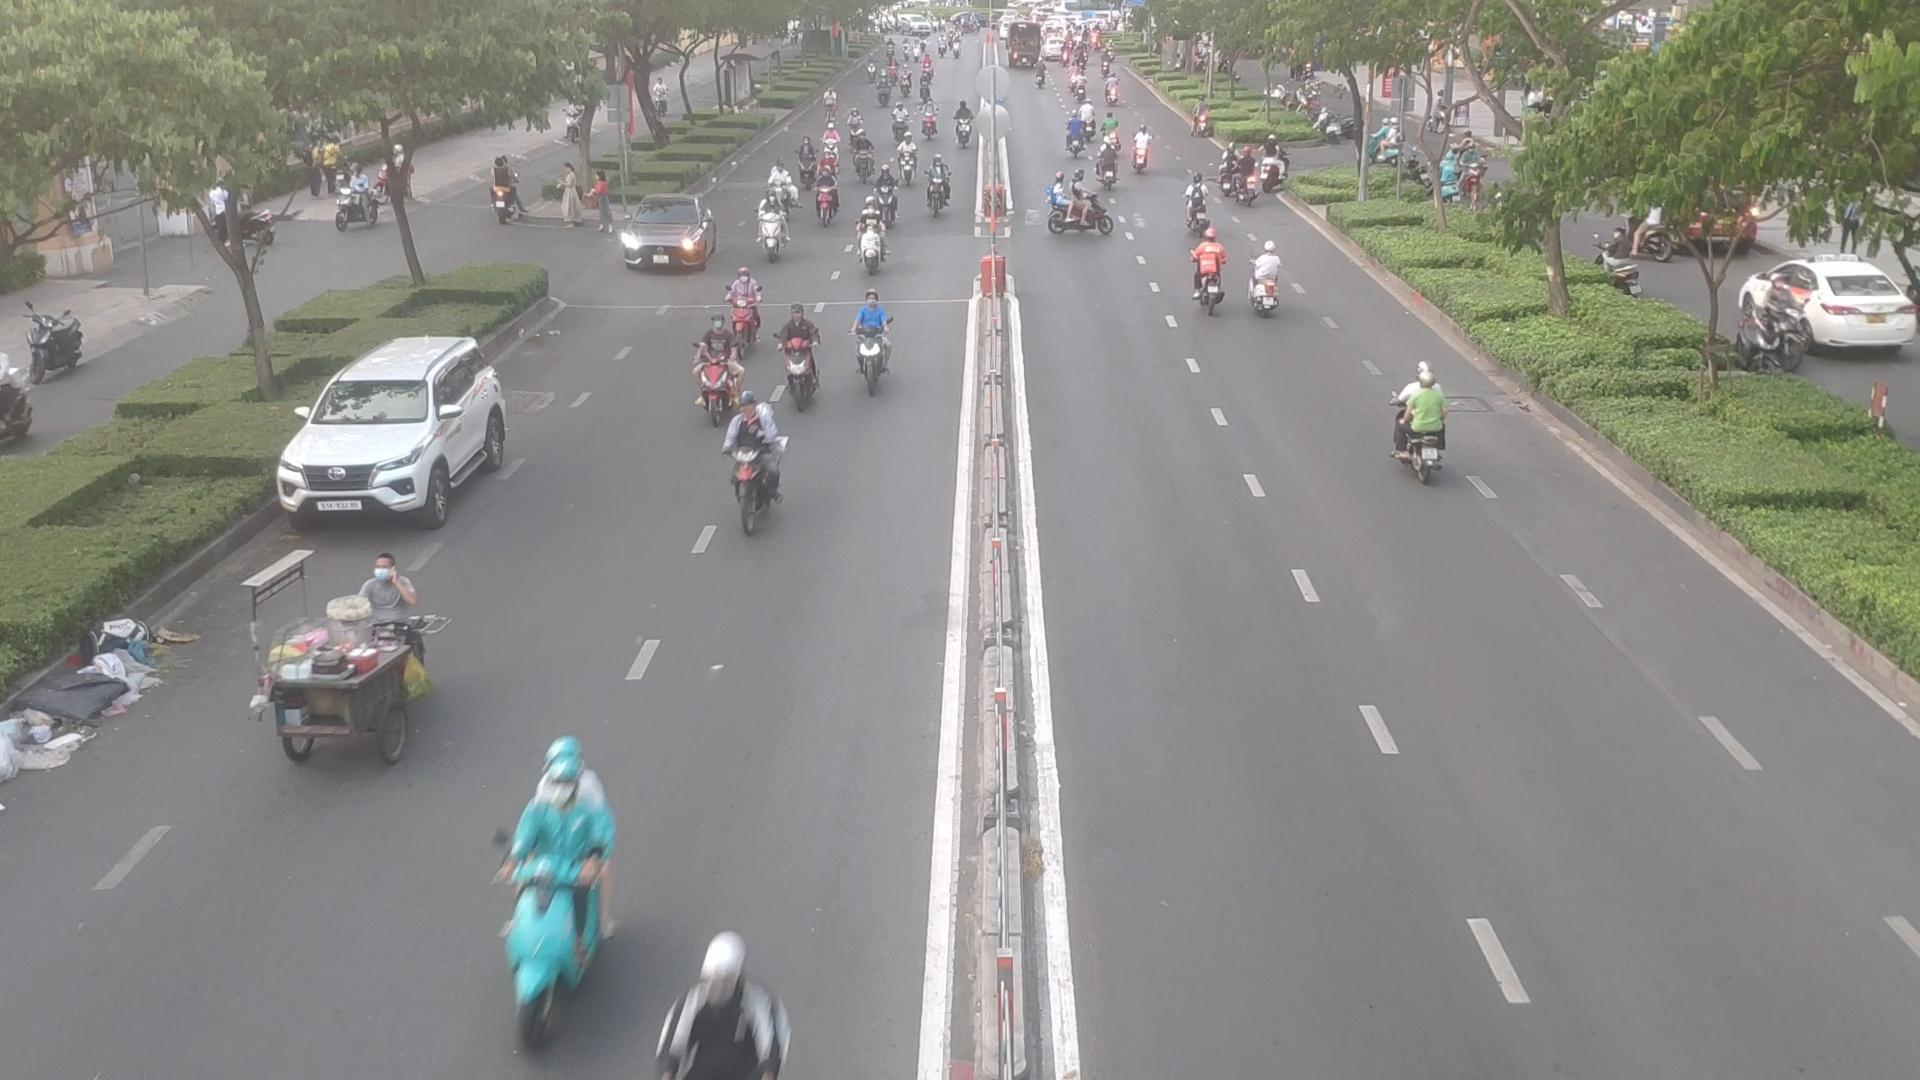car: (282, 331, 524, 524), (612, 196, 723, 276)
motorbike: (487, 756, 629, 1046), (713, 401, 783, 533), (1379, 375, 1455, 477), (847, 291, 901, 390), (781, 306, 829, 404), (705, 272, 767, 348), (694, 344, 749, 423), (1183, 236, 1228, 315), (1048, 194, 1120, 241), (1247, 243, 1290, 315), (851, 212, 891, 273), (752, 202, 789, 262), (1183, 170, 1216, 236), (924, 162, 953, 218), (816, 173, 844, 225), (1131, 131, 1159, 177), (1091, 148, 1120, 189)
